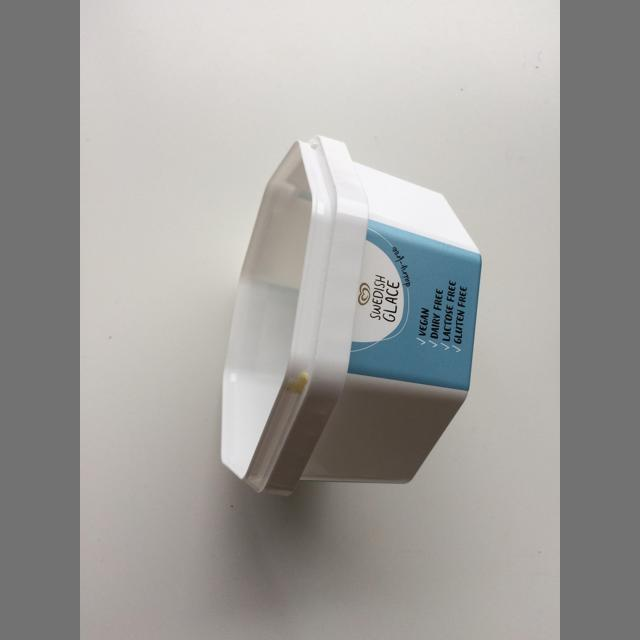litter: (222, 135, 482, 496)
